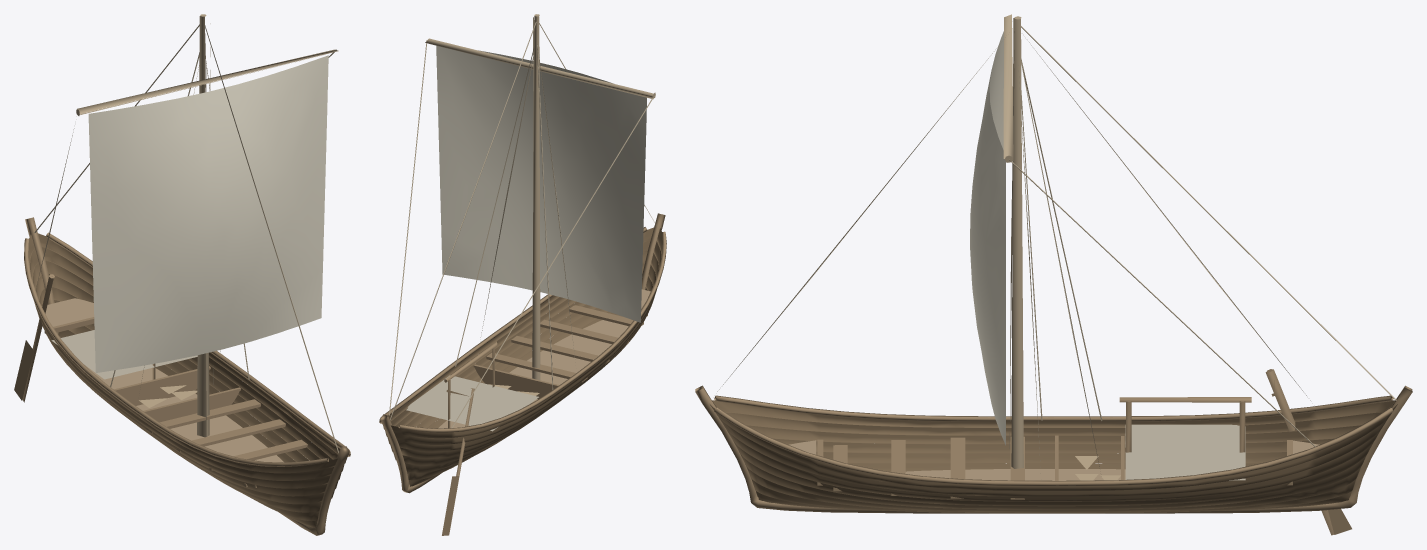
Rendered from fishing-boat-far.glb.
3 views of the same model, side by side, from view 1: azimuth 30°, elevation 25°; view 2: azimuth 150°, elevation 25°; view 3: azimuth 270°, elevation 25° (orthographic). The views are drawn at different scales.
Visible parts, largest first — view 1: linen, planking, timber, boards, rope, Mast, Yard, Aft tent canopy, Steering oar blade, Steering oar (starboard); view 2: linen, planking, timber, rope, Aft tent canopy, Mast, boards, Yard, Steering oar blade; view 3: planking, timber, linen, Aft tent canopy, rope, Mast, boards, Yard.
Part boxes in pixels (x1,y1,x2,y2): linen: [88, 55, 328, 372]; planking: [28, 233, 345, 528]; timber: [24, 217, 350, 535]; boards: [42, 298, 283, 462]; rope: [34, 23, 338, 453]; Mast: [197, 14, 209, 437]; Yard: [76, 49, 338, 115]; Aft tent canopy: [51, 330, 197, 379]; Steering oar blade: [14, 340, 33, 400]; Steering oar (starboard): [22, 274, 54, 402]; linen: [436, 45, 646, 322]; planking: [383, 227, 662, 486]; timber: [379, 213, 666, 493]; rope: [389, 17, 656, 428]; Aft tent canopy: [406, 375, 538, 431]; Mast: [532, 14, 540, 380]; boards: [438, 289, 650, 428]; Yard: [425, 38, 655, 99]; Steering oar blade: [442, 476, 458, 535]; planking: [710, 400, 1397, 513]; timber: [695, 385, 1412, 513]; linen: [970, 31, 1005, 445]; Aft tent canopy: [1125, 424, 1245, 480]; rope: [717, 26, 1396, 473]; Mast: [1011, 16, 1023, 468]; boards: [789, 440, 1319, 480]; Yard: [1003, 14, 1013, 162].
Size of the model in its own units: 5.62 by 9.93 by 11.97.
